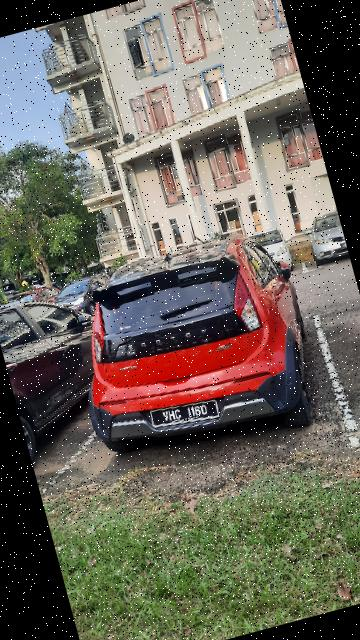License_Plate: (144, 389, 225, 440)
car: (59, 229, 335, 481), (1, 281, 139, 472), (291, 206, 351, 271), (240, 222, 300, 287)
